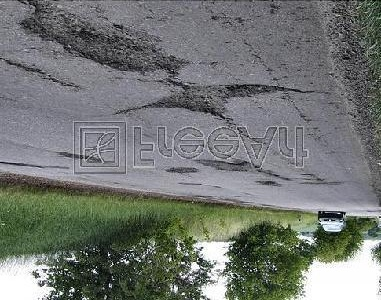pothole: (17, 0, 189, 76), (143, 84, 283, 118), (194, 157, 258, 173), (165, 166, 199, 175)
